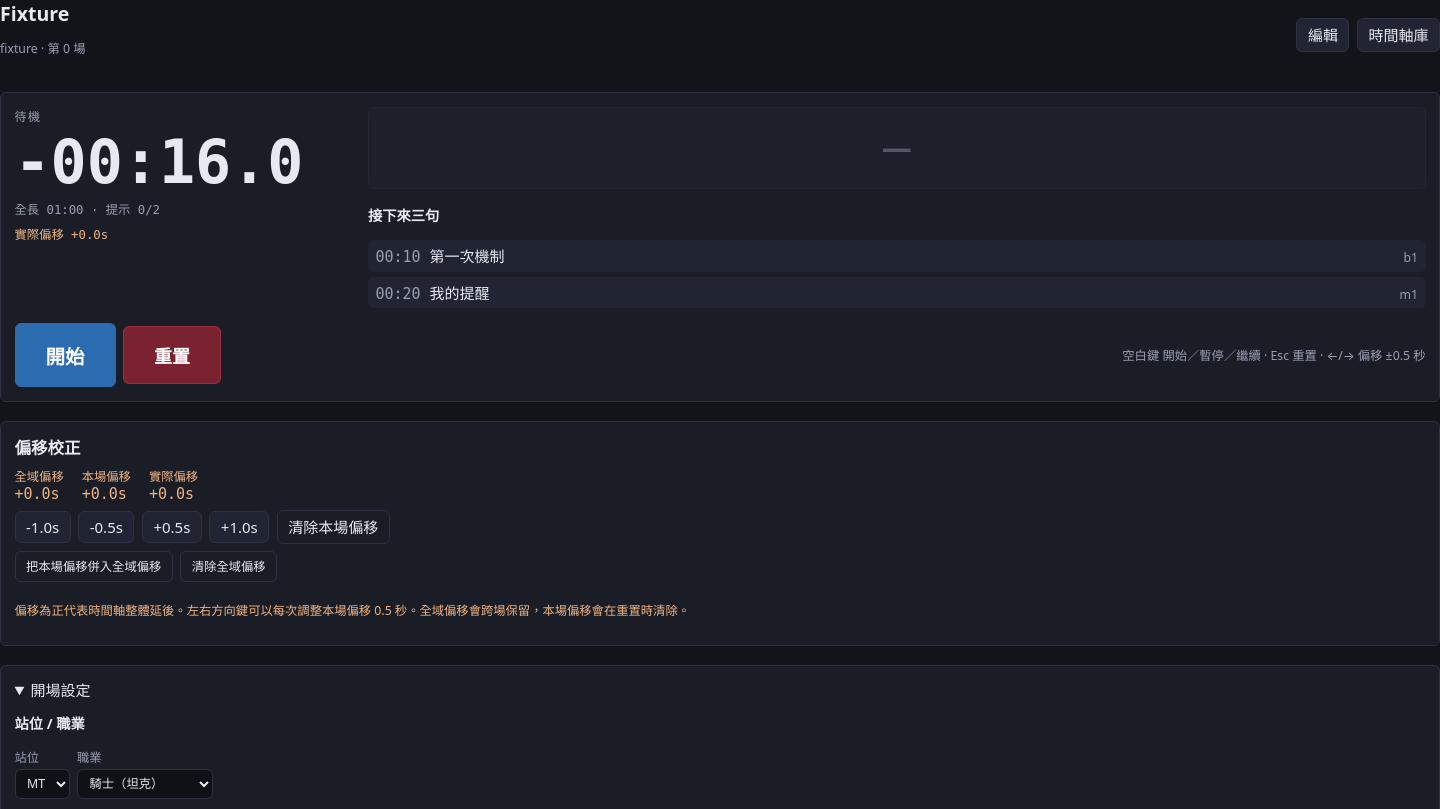
Scenario: B9/B10. 三個開始入口的規則一致 › 正常情況：按鈕、空白鍵都出現一般開始摘要
Click the button "開始" at (65, 355), box left=14, top=323, right=116, bottom=387
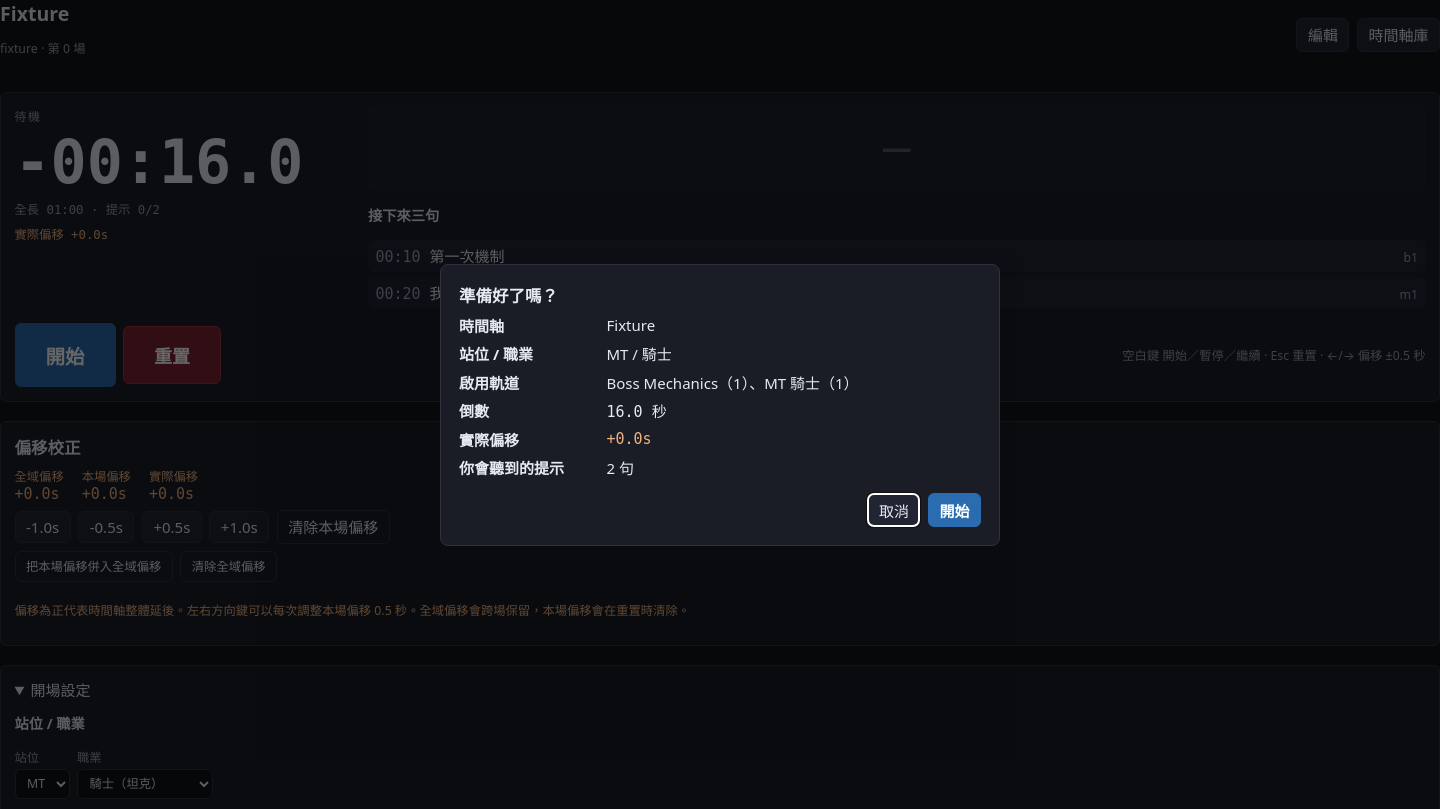
Expected: the heading "準備好了嗎？" is shown, left=459, top=284, right=558, bottom=307
Expected: the text with test id "preflight-cue-count" reads "2 句", left=606, top=457, right=634, bottom=478
Click the button "取消" at (894, 510), box left=868, top=493, right=920, bottom=527
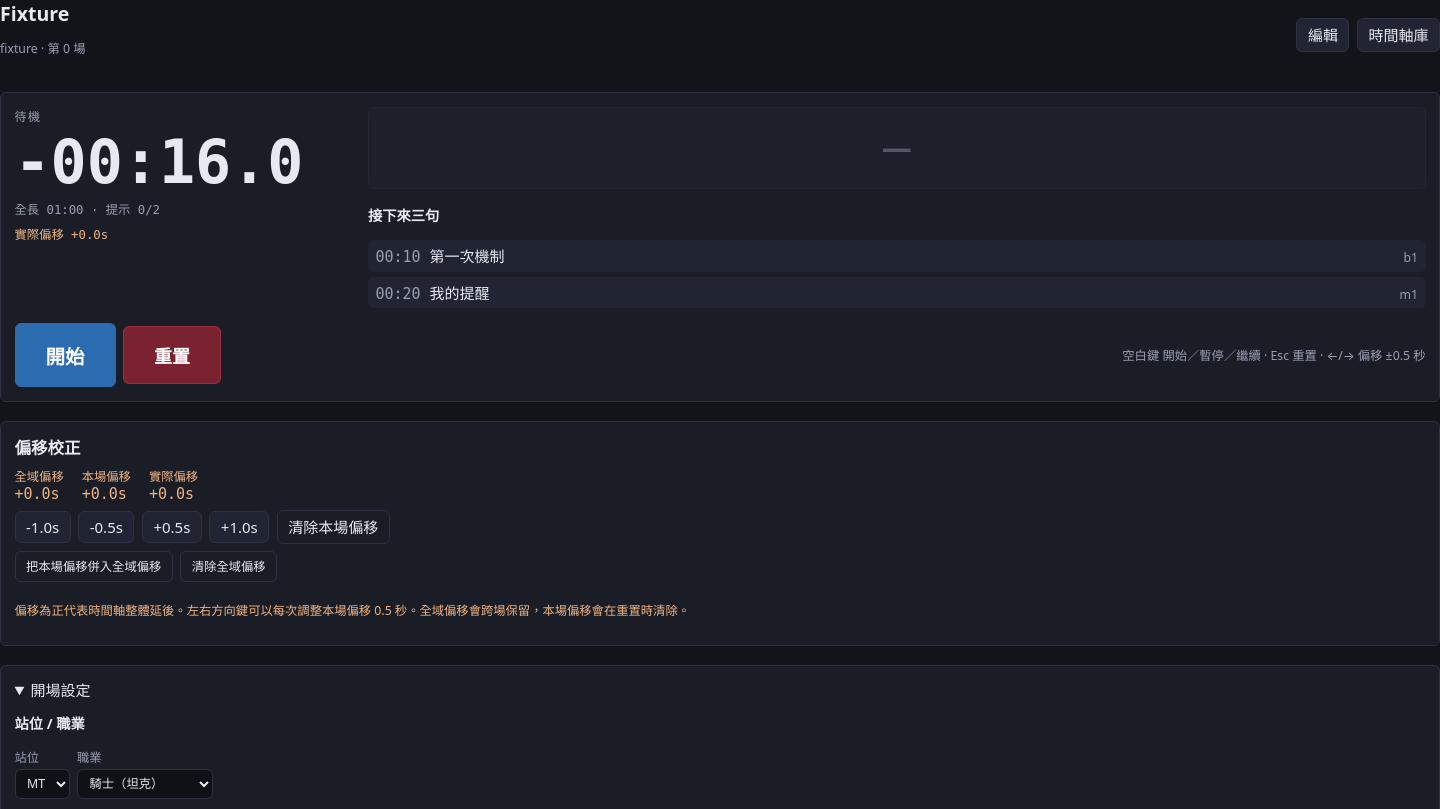
Press Space
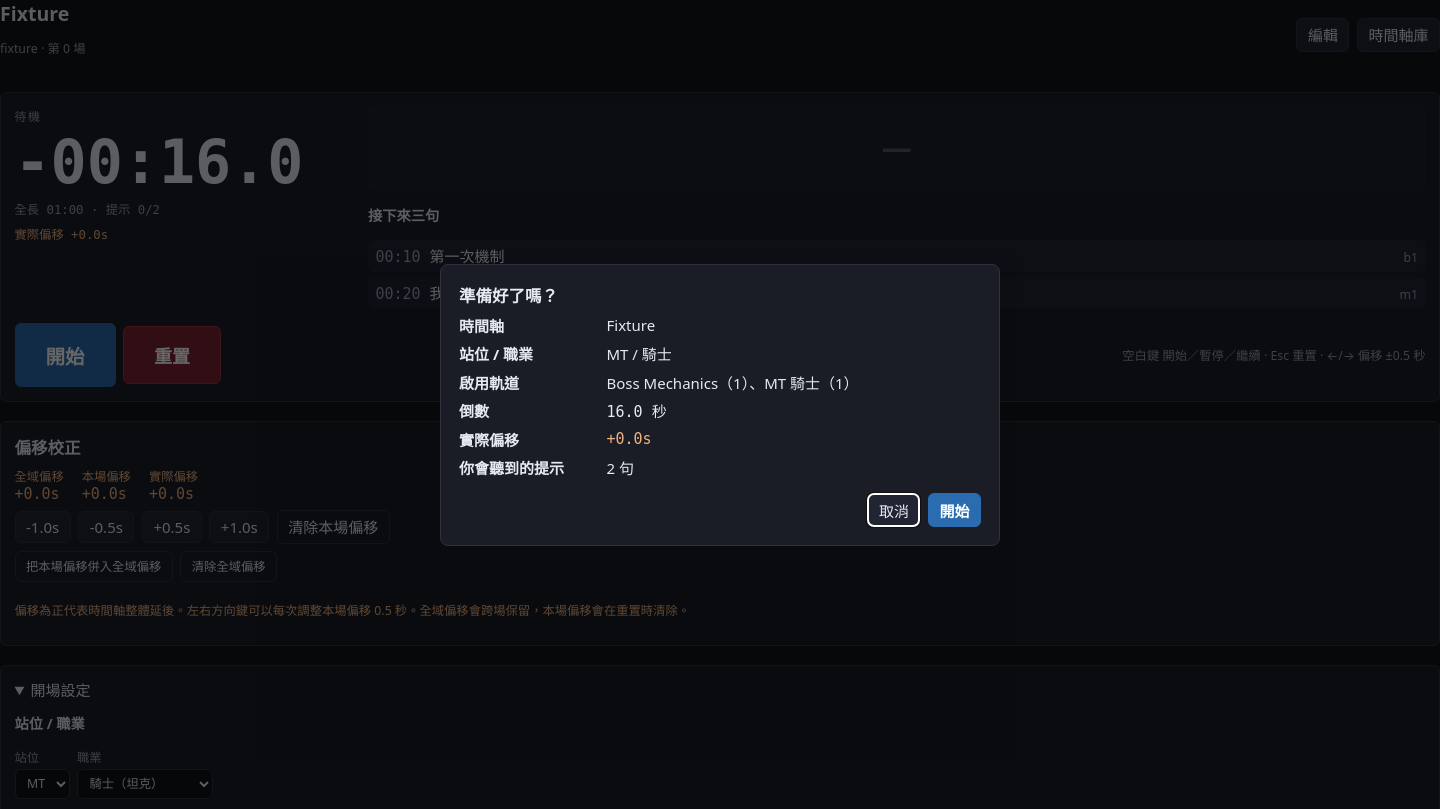
Expected: the heading "準備好了嗎？" is shown, left=459, top=284, right=558, bottom=307
